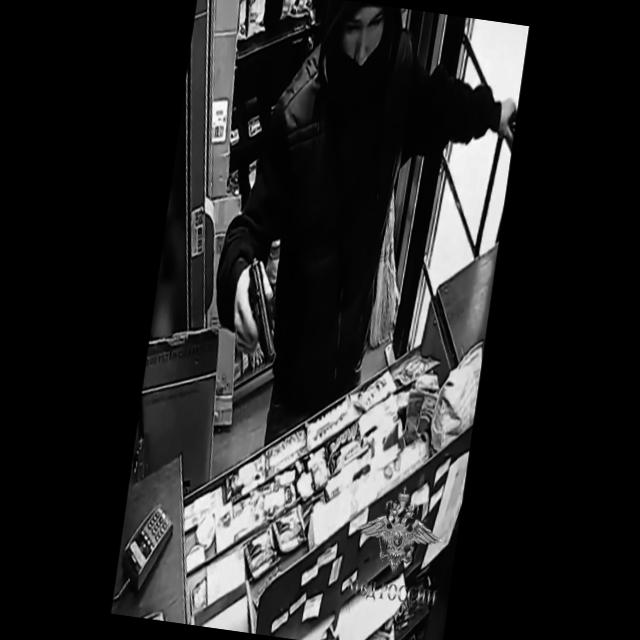gun: (225, 255, 288, 376)
person with a gun: (205, 3, 528, 449)
